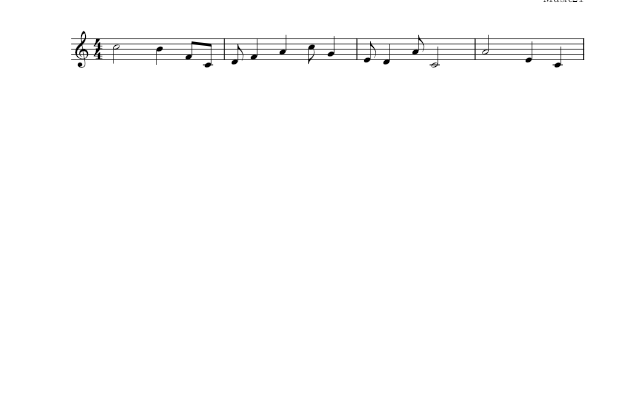Treble Clef: (69, 23, 93, 75)
